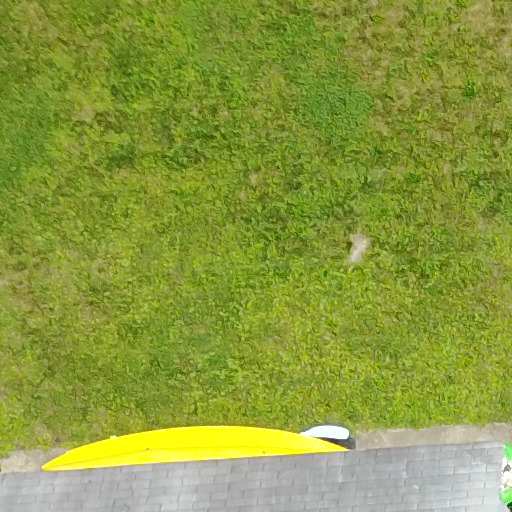kayak: (34, 393, 355, 474)
toy: (36, 390, 375, 483)
